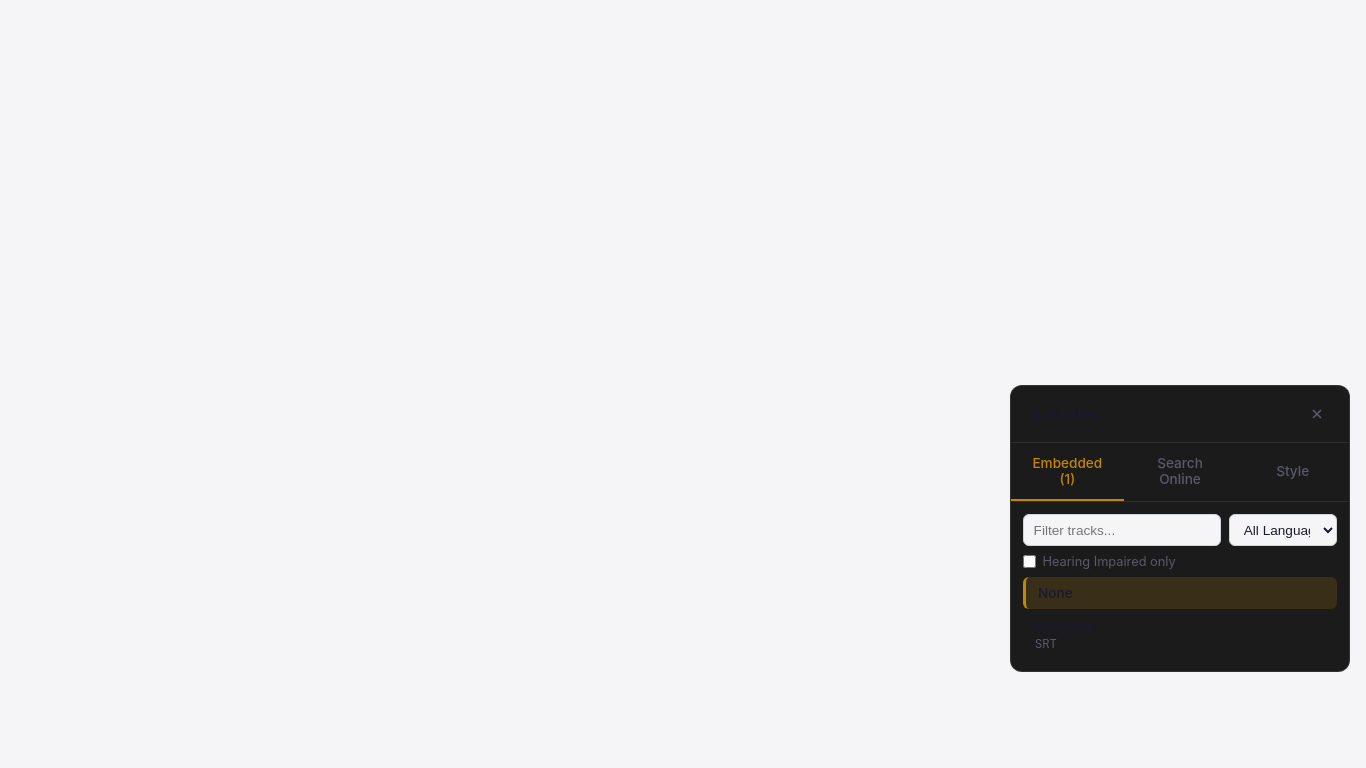
Test: SubtitleSearchPanel › shows the error message when search fails
This screenshot has width=1366, height=768.
Step 1. Click the button "Search Online" → (1180, 472), box [1124,443,1236,501]
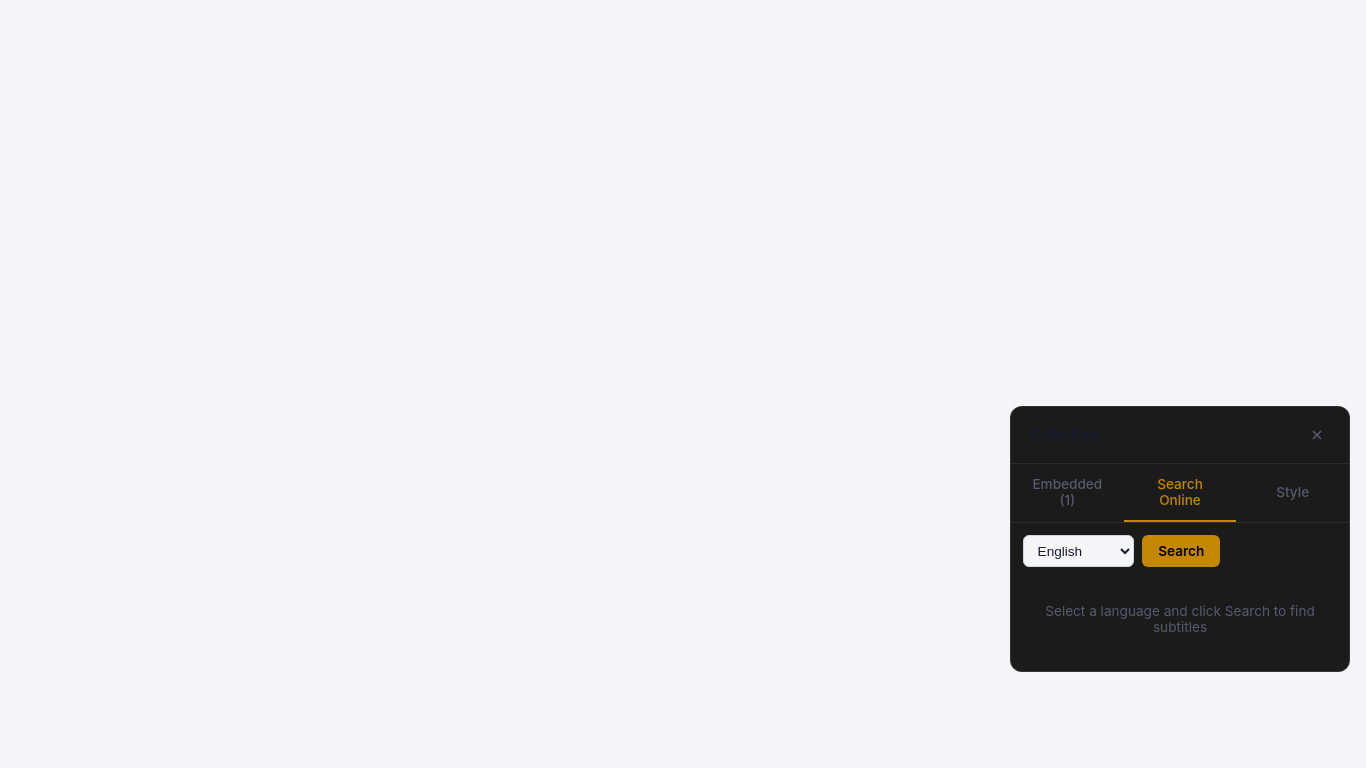
Step 2. Click the button "Search" → (1181, 551), box [1142,535,1220,567]
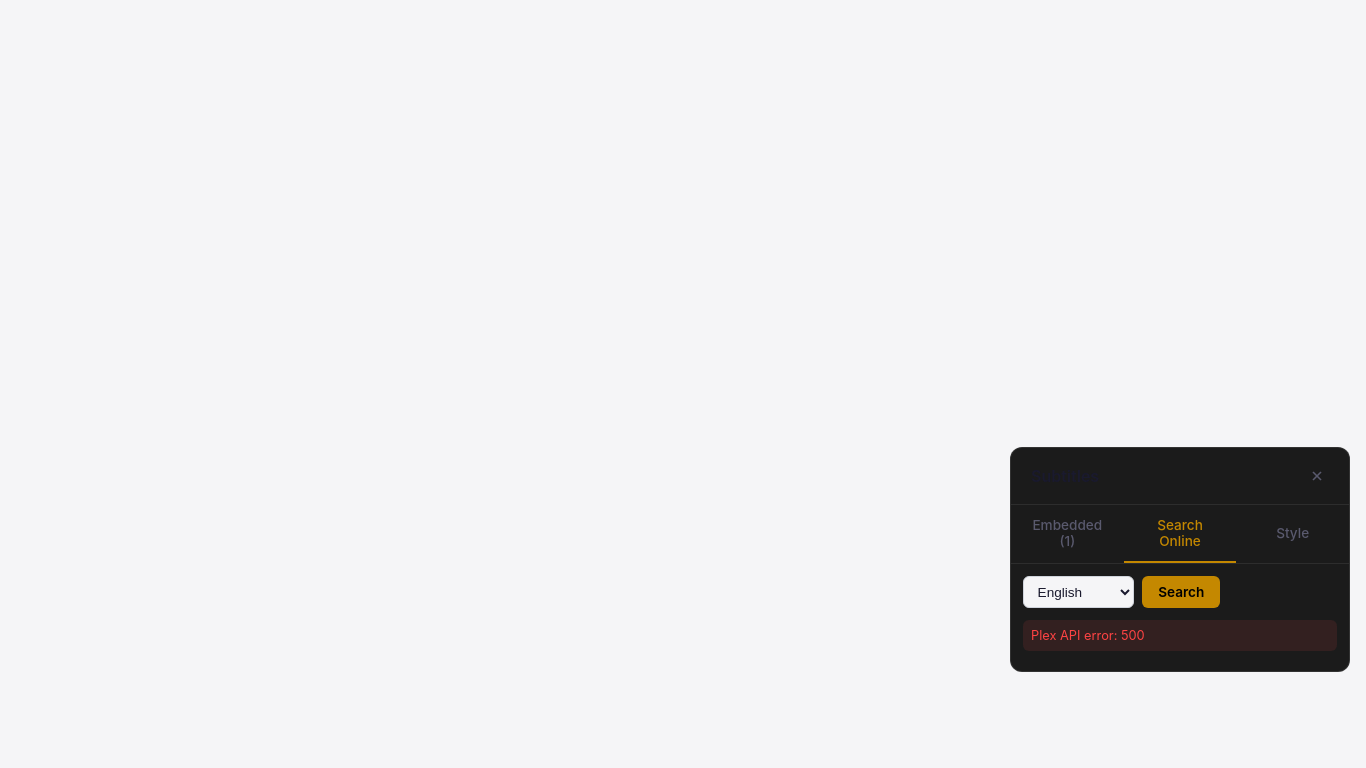
expect the text "Plex API error: 500" is shown: met, box [1023,620,1337,651]
